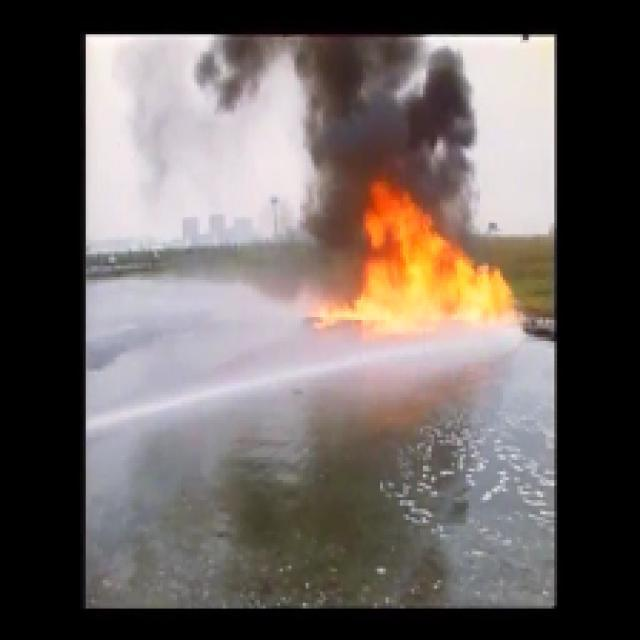Fire: (340, 184, 526, 332)
Smoke: (296, 39, 476, 182), (212, 34, 259, 101)
